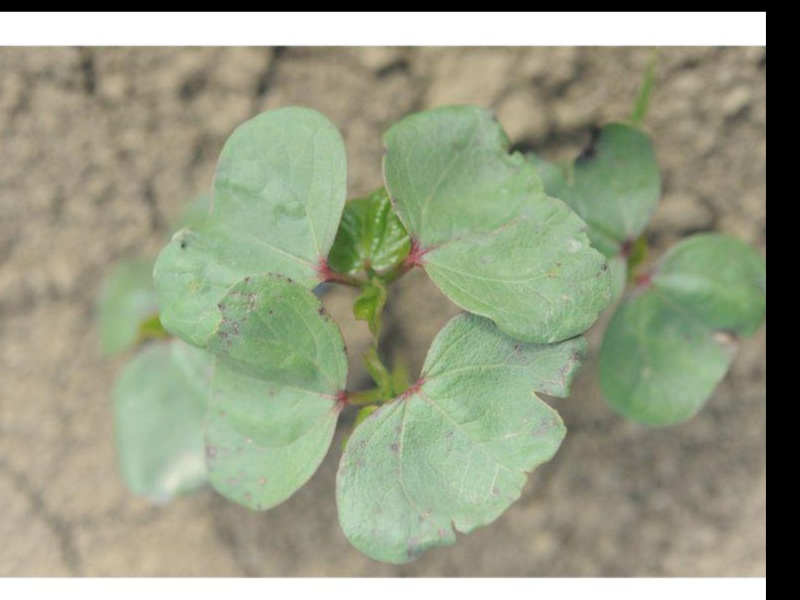cotton: (115, 107, 763, 560)
